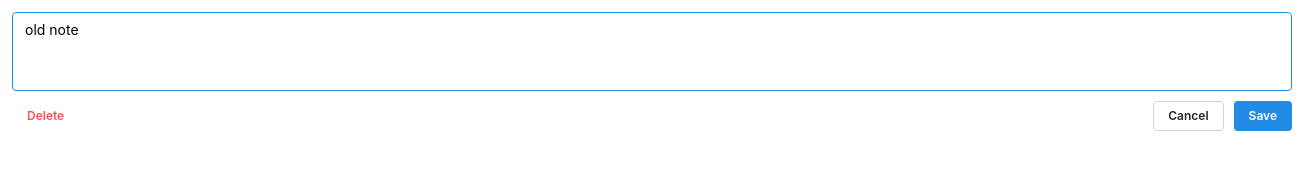
Test: WorkLogEditor › cannot save an empty note
Clear the text box named "Work log note" at (652, 52), box [12,12,1292,91]
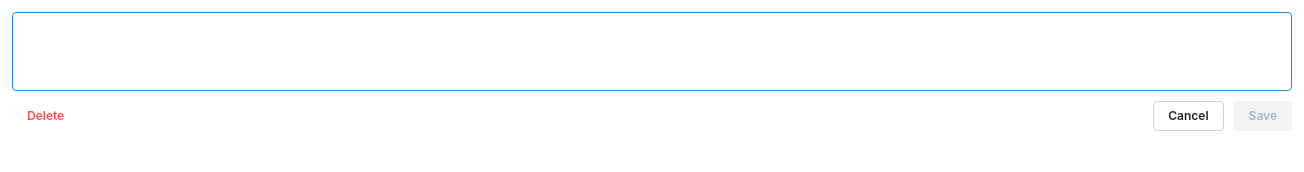
Check: the button "Save" is disabled, box [1234,101,1292,131]
